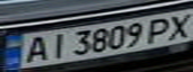0: (106, 22, 130, 52)
3: (69, 28, 93, 56)
8: (90, 25, 112, 54)
9: (124, 20, 151, 48)
A: (18, 34, 51, 64)
I: (42, 30, 72, 61)
P: (142, 15, 178, 44)
X: (160, 11, 193, 40)
